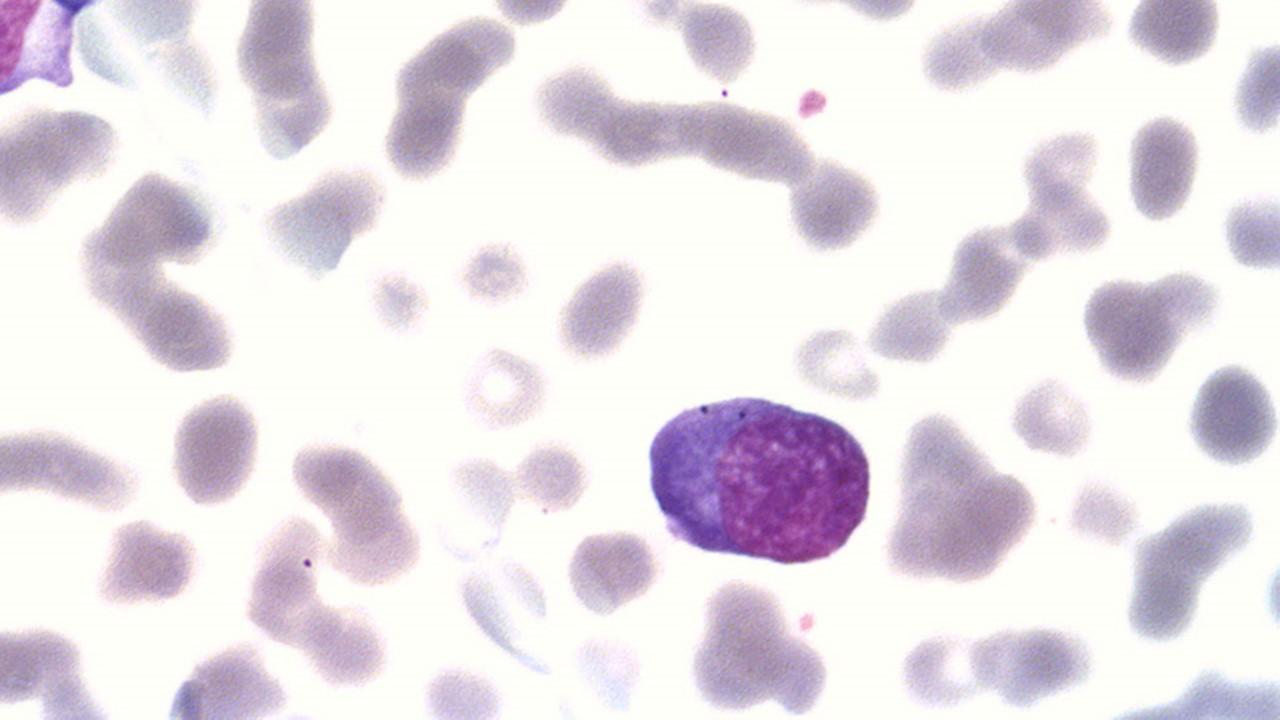Platelets: (1075, 271, 1185, 386), (165, 390, 264, 510), (1181, 361, 1279, 473), (553, 257, 651, 367), (92, 519, 204, 612), (781, 162, 884, 260), (562, 526, 662, 621), (1122, 110, 1204, 225), (1219, 191, 1280, 277), (1229, 41, 1279, 140), (1259, 558, 1280, 638)
WBC: (640, 386, 880, 570), (560, 525, 662, 620)
